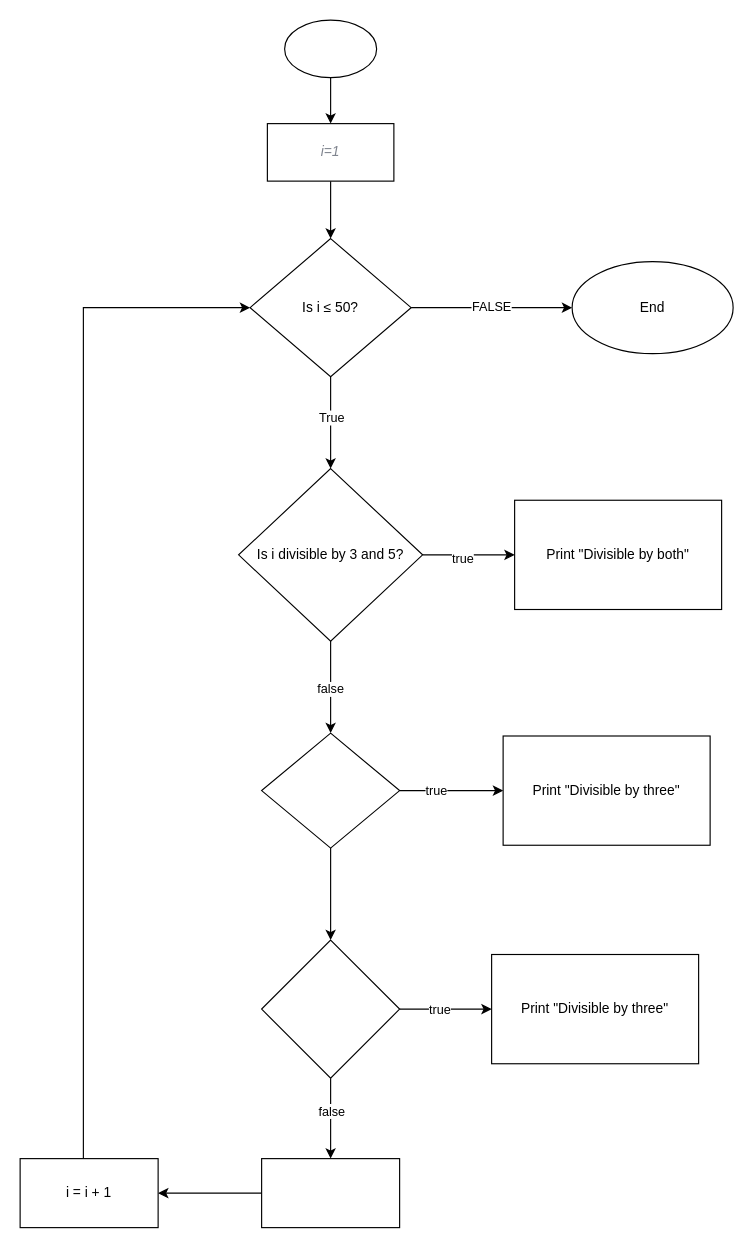
This 753x1248 diagram has some shape labels left out. The centre of each missing label's shape, as x and y in pixels:
"Is i divisible by 3?" goes at (330,790).
"Is i divisible by 5?" goes at (330,1008).
"Print i" goes at (330,1192).
"Start" goes at (330,48).
